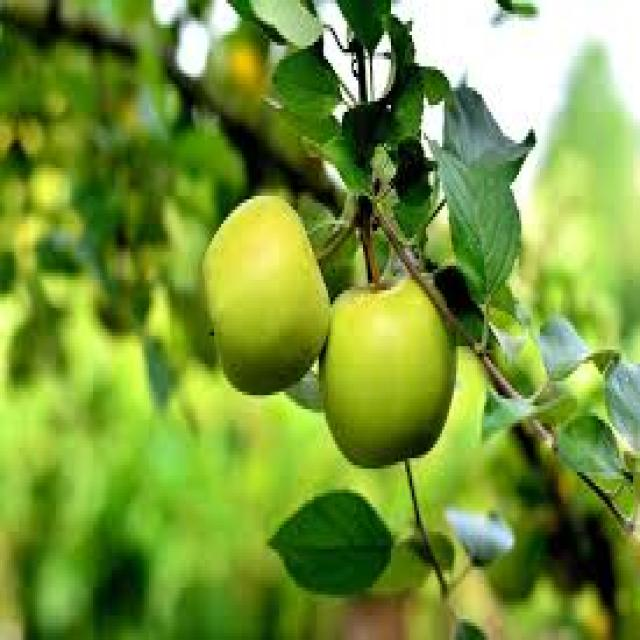50-_ripeness: (180, 181, 338, 400), (312, 269, 468, 468)
